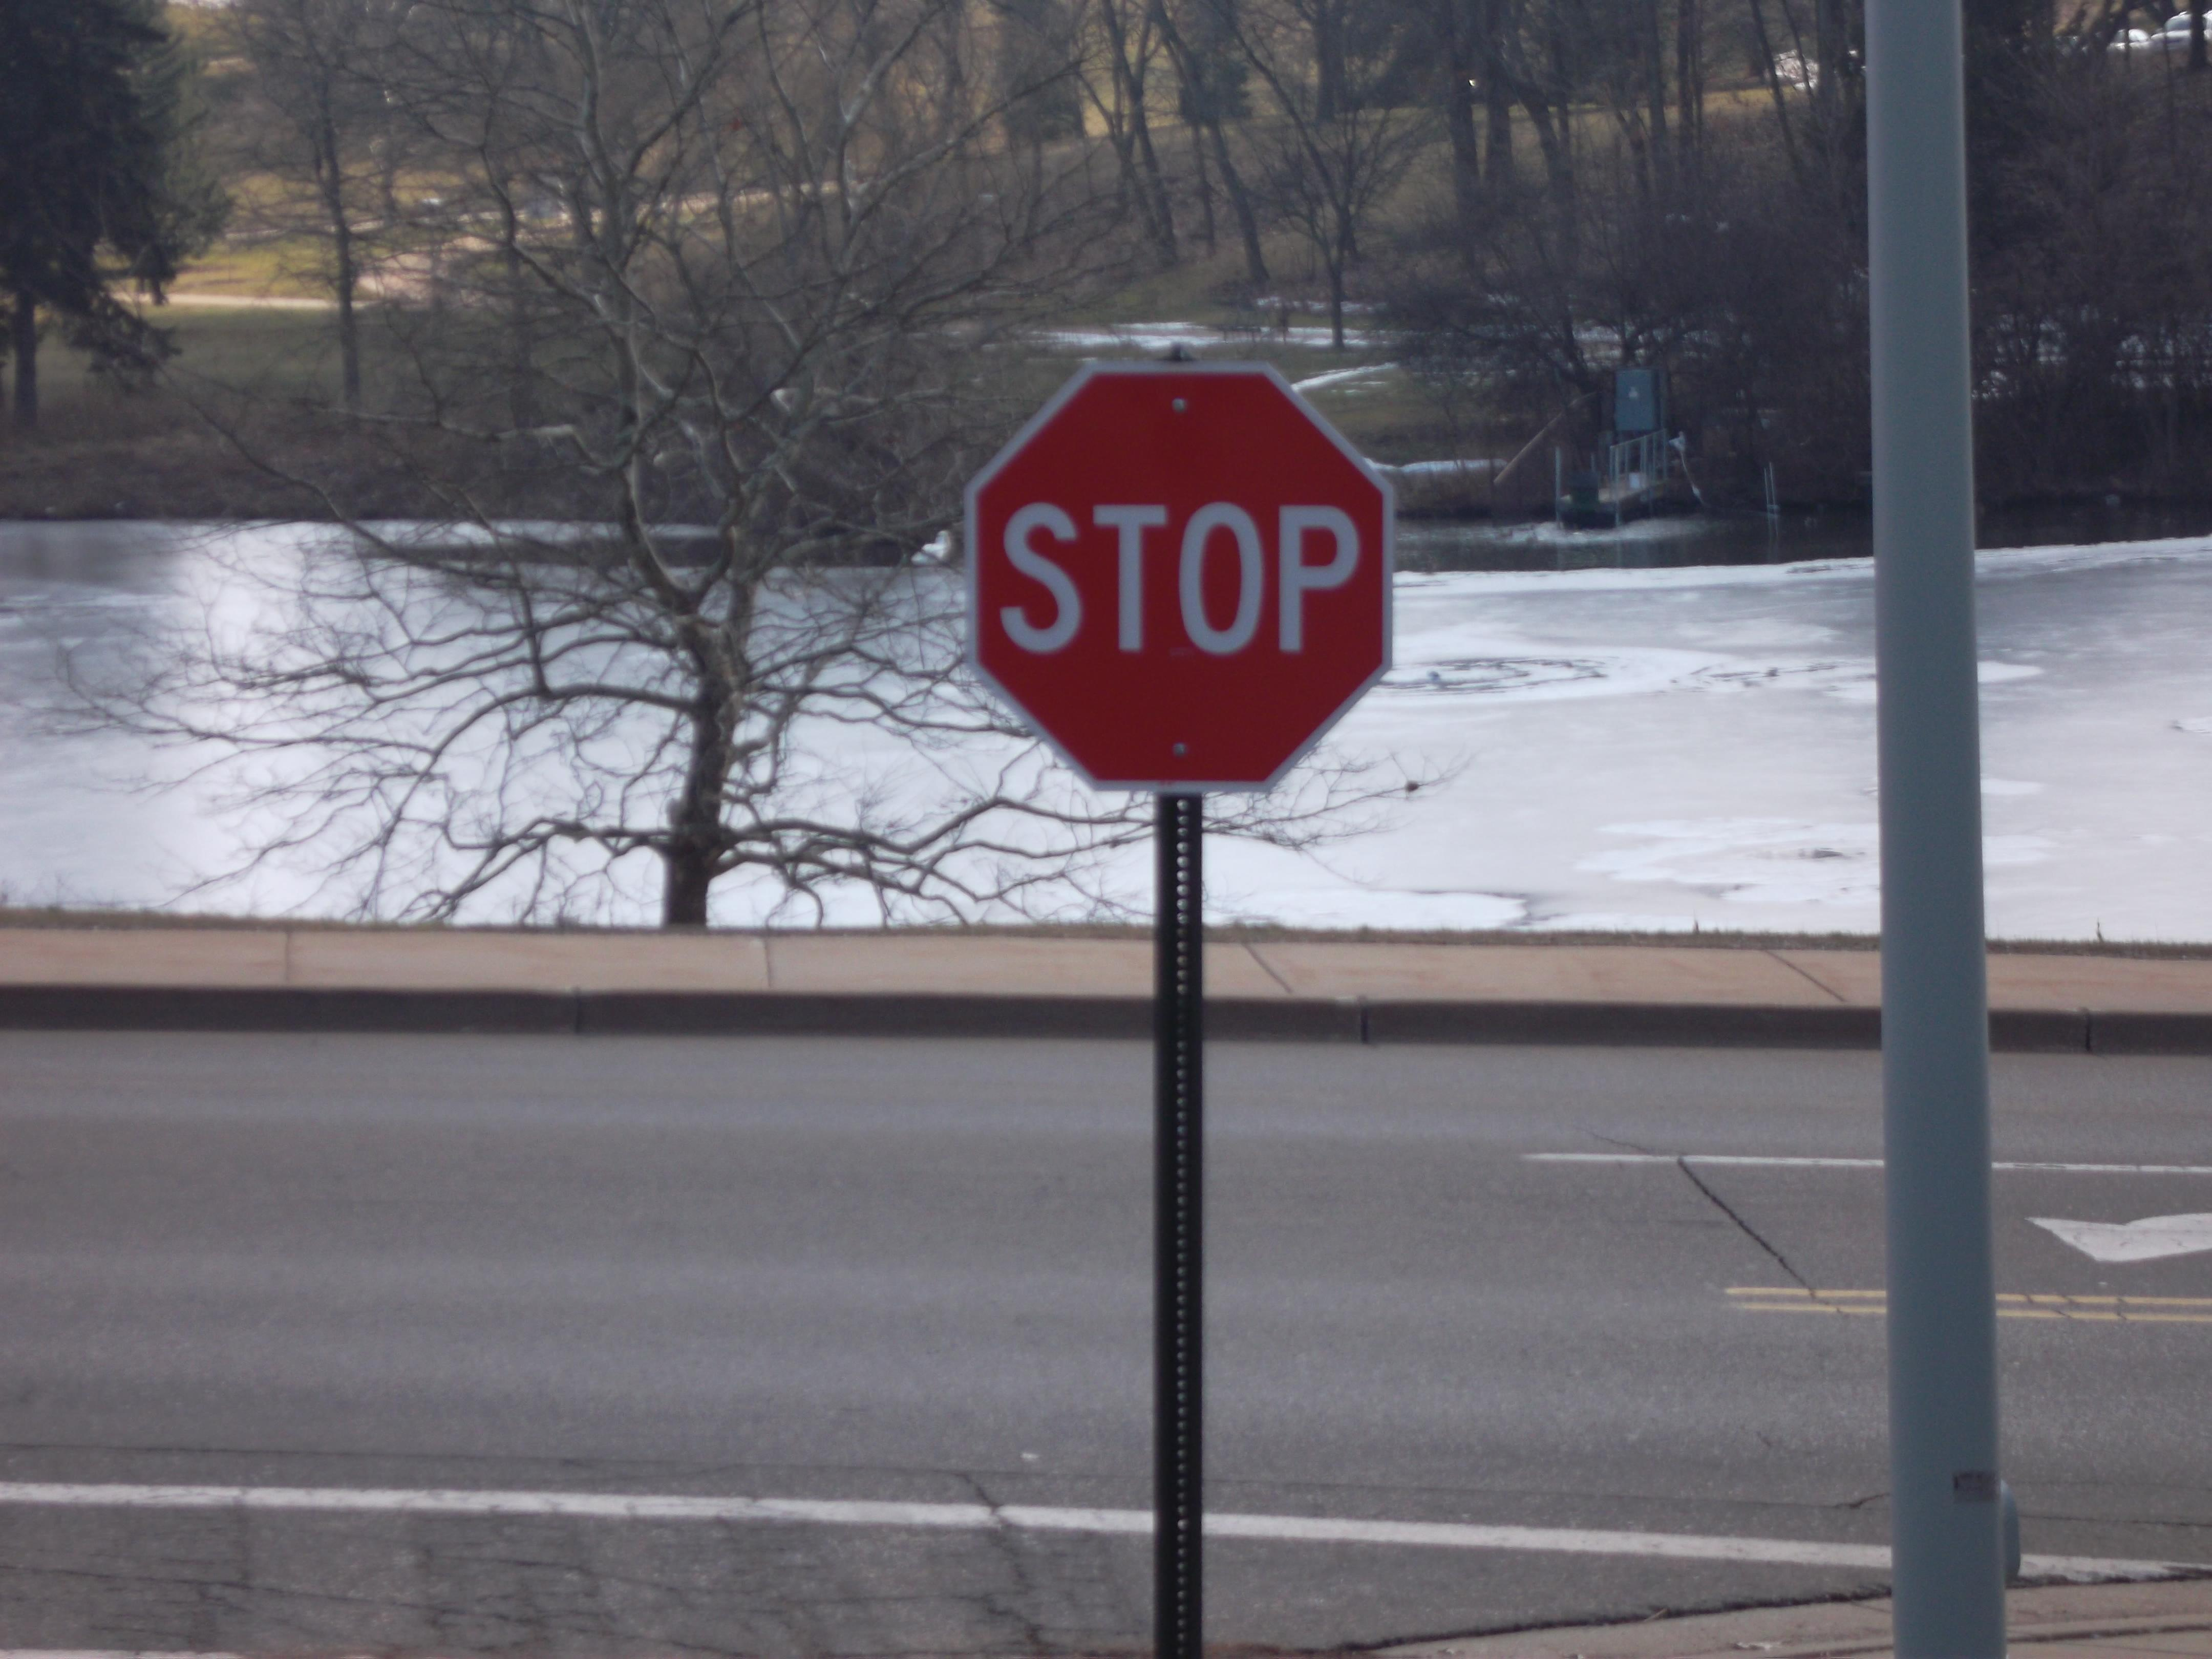stop: (942, 343, 1430, 805)
